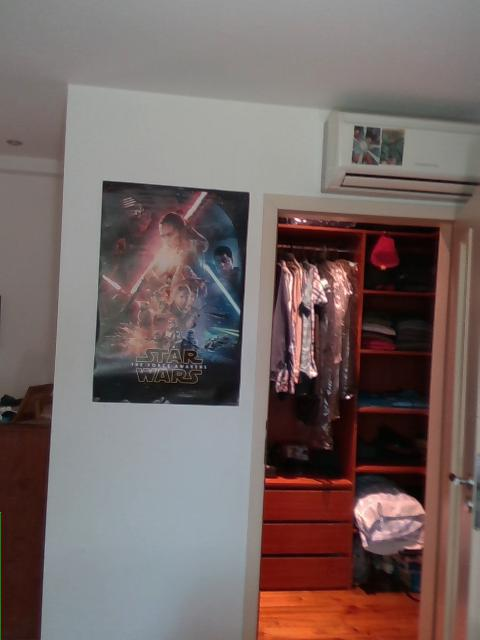open_door: (241, 192, 472, 639)
